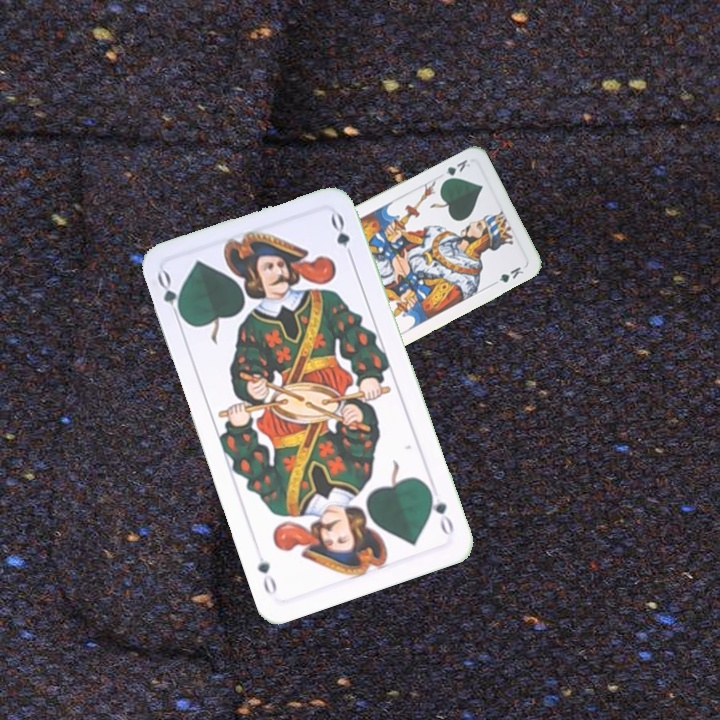GK: (438, 155, 473, 185)
GO: (153, 267, 188, 325), (423, 483, 457, 538)
